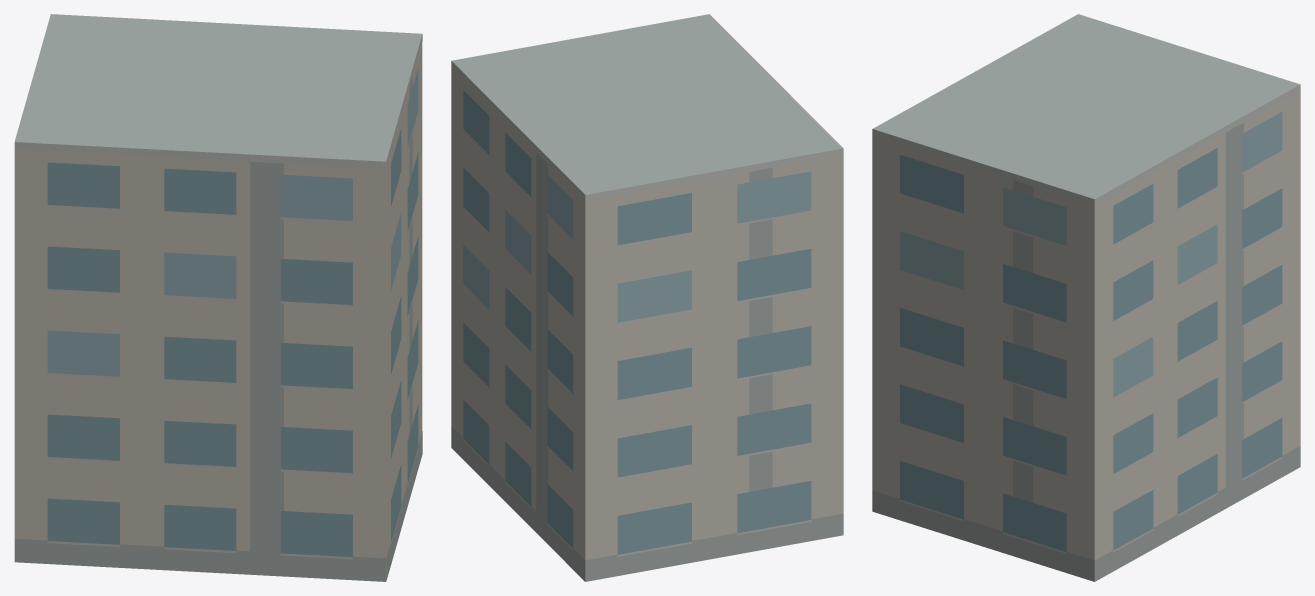
The model's file is survey-upis-32832217.glb.
3 views of the same model, side by side, from view 1: azimuth 30°, elevation 25°; view 2: azimuth 150°, elevation 25°; view 3: azimuth 270°, elevation 25° (orthographic). The views are drawn at different scales.
Parts seen in each view (by area): view 1: survey-upis-32832217.tmp; view 2: survey-upis-32832217.tmp; view 3: survey-upis-32832217.tmp.
Boxes of the visible parts, x1,y1,x2,y2 form: survey-upis-32832217.tmp: (14, 14, 422, 581); survey-upis-32832217.tmp: (451, 14, 843, 581); survey-upis-32832217.tmp: (872, 14, 1300, 581).
Bounding box in the file's own units: 15.06 × 14.5 × 14.72.
